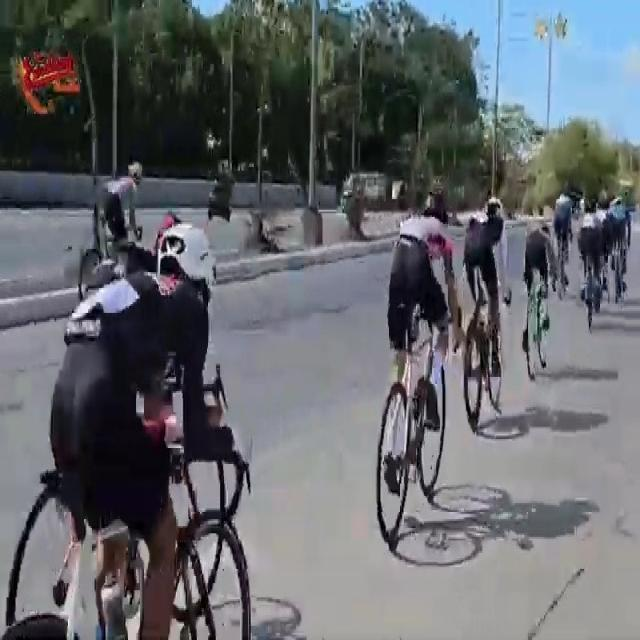bike: (0, 217, 252, 640), (8, 256, 226, 615), (373, 178, 458, 549), (462, 194, 508, 433), (78, 160, 154, 302), (522, 220, 560, 380), (578, 200, 600, 336), (612, 198, 633, 304)
